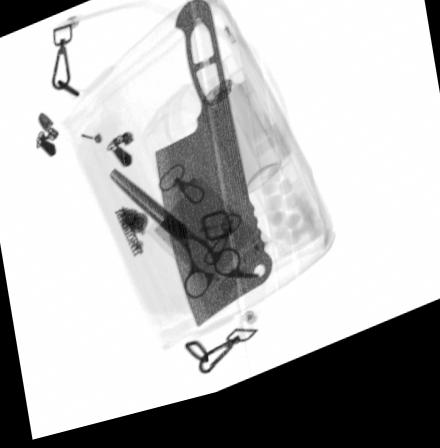Knife: (150, 5, 271, 338)
Powerbank: (144, 170, 275, 310)
Scissors: (107, 170, 260, 308)
Sprayer: (198, 71, 281, 205)
